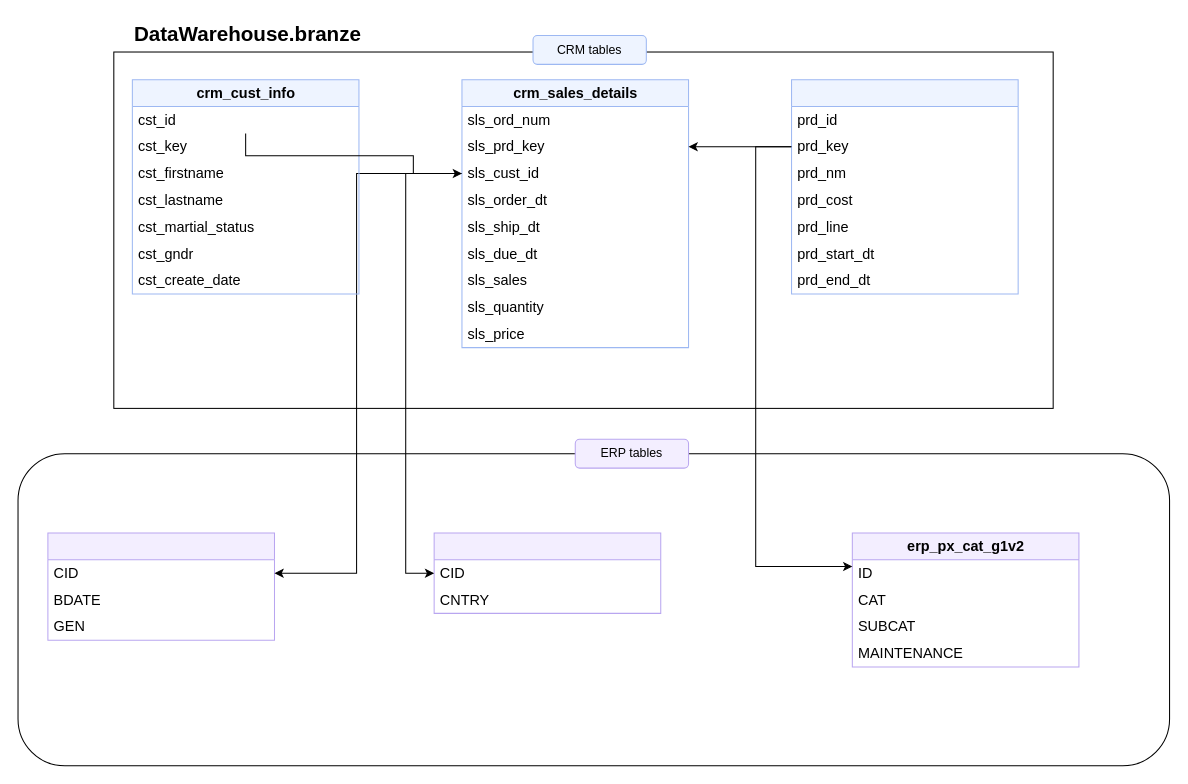
Image size: 1188x784. Some labels were removed from this diagram. Here are the shapes that lost their labels. From the top down, the box of each, then its label:
(791, 79, 1018, 294): crm_prd_info
(47, 532, 274, 640): erp_cust_az12
(433, 532, 661, 613): erp_loc_a101
